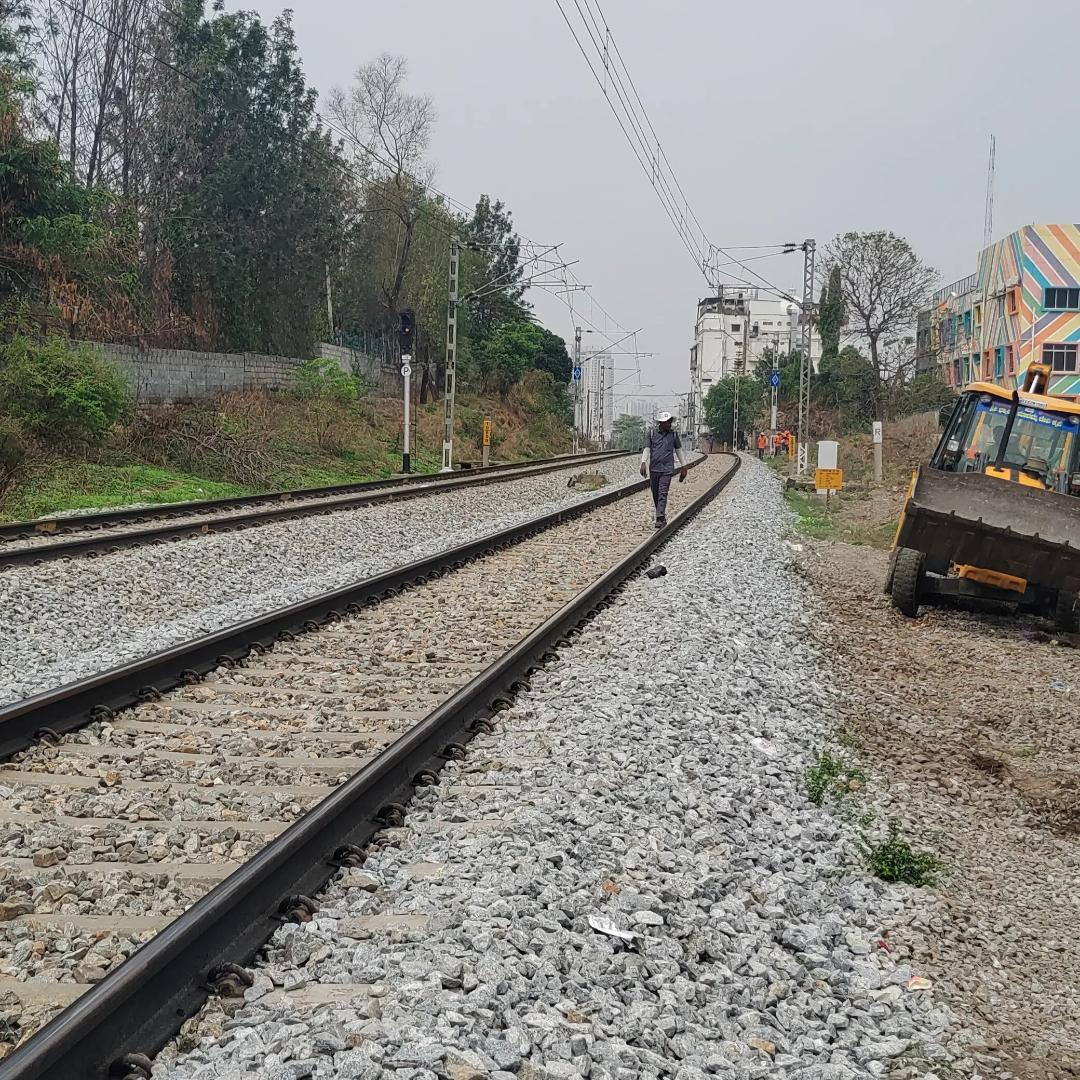standing: (630, 399, 700, 553)
track: (0, 445, 755, 1080)
